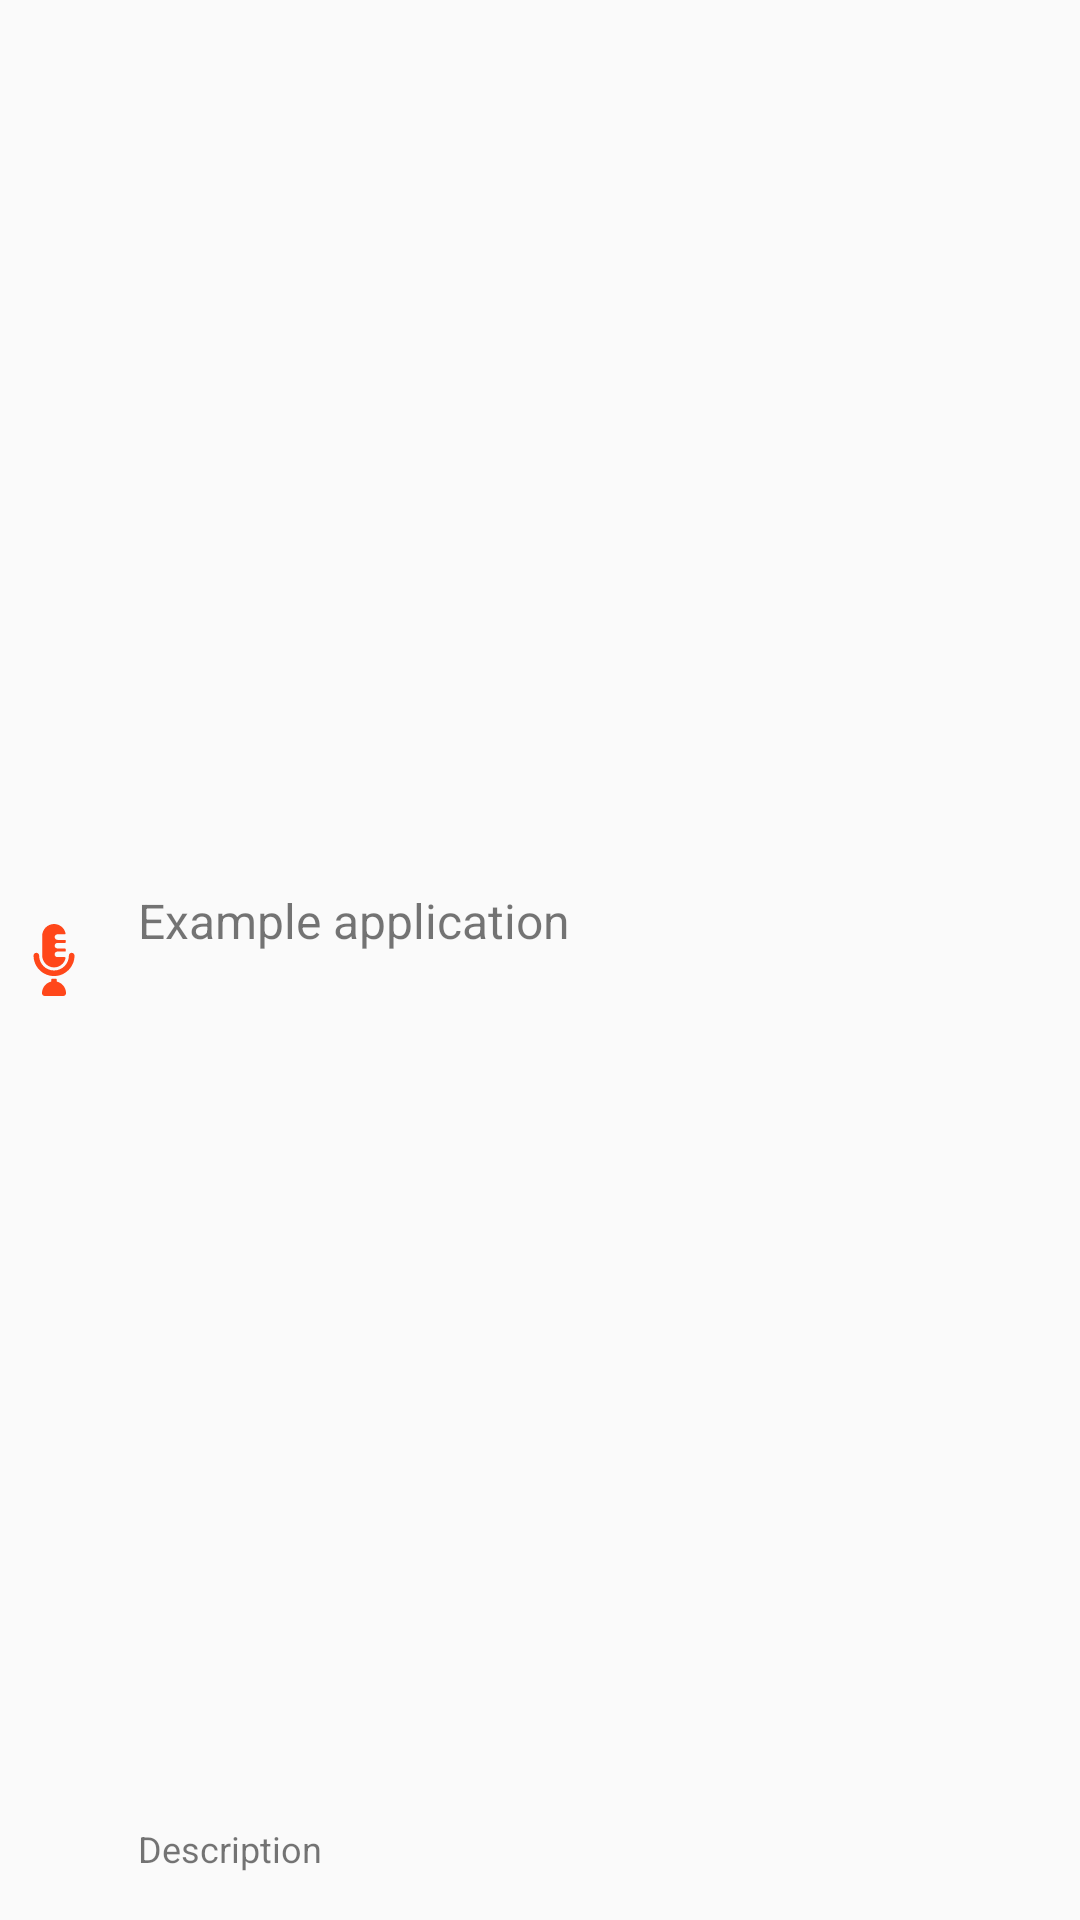

Screen size 1080 x 1920. Icon name, then its center in pixels as (x,y):
record: (54,960)
